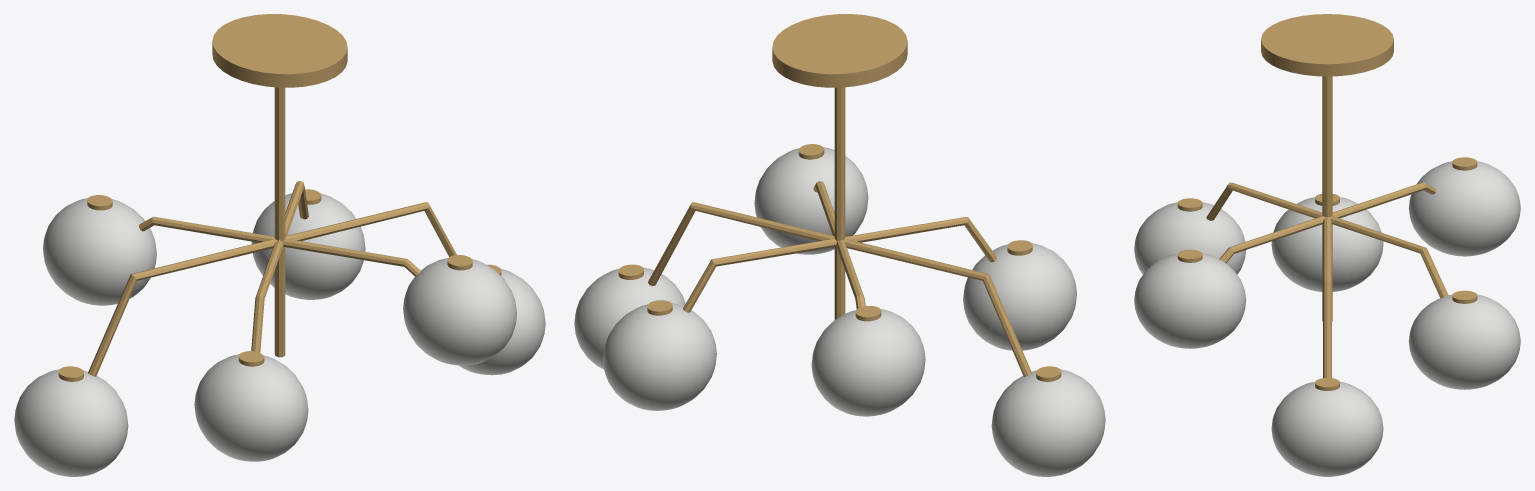
The model's file is chandelier-opal-branch.glb.
3 views of the same model, side by side, from view 1: azimuth 30°, elevation 25°; view 2: azimuth 150°, elevation 25°; view 3: azimuth 270°, elevation 25° (orthographic). The views are drawn at different scales.
Visible parts, largest first — view 1: chandelier-opal-branch authored assembly; view 2: chandelier-opal-branch authored assembly; view 3: chandelier-opal-branch authored assembly.
Boxes of the visible parts, x1,y1,x2,y2 form: chandelier-opal-branch authored assembly: (14, 14, 545, 476); chandelier-opal-branch authored assembly: (574, 14, 1105, 476); chandelier-opal-branch authored assembly: (1134, 14, 1520, 476).
Size of the model in its own units: 1 by 0.7 by 0.72.
